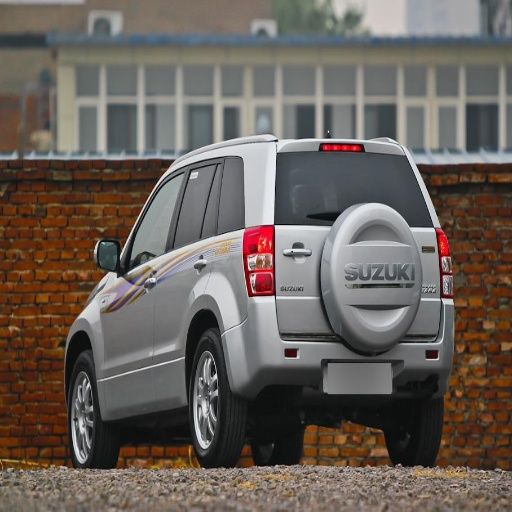back_bumper: (226, 297, 446, 393)
back_glass: (343, 155, 426, 224)
back_left_door: (154, 168, 214, 386)
tailgate: (291, 214, 427, 342)
trunk: (249, 210, 364, 333), (409, 229, 440, 337)
